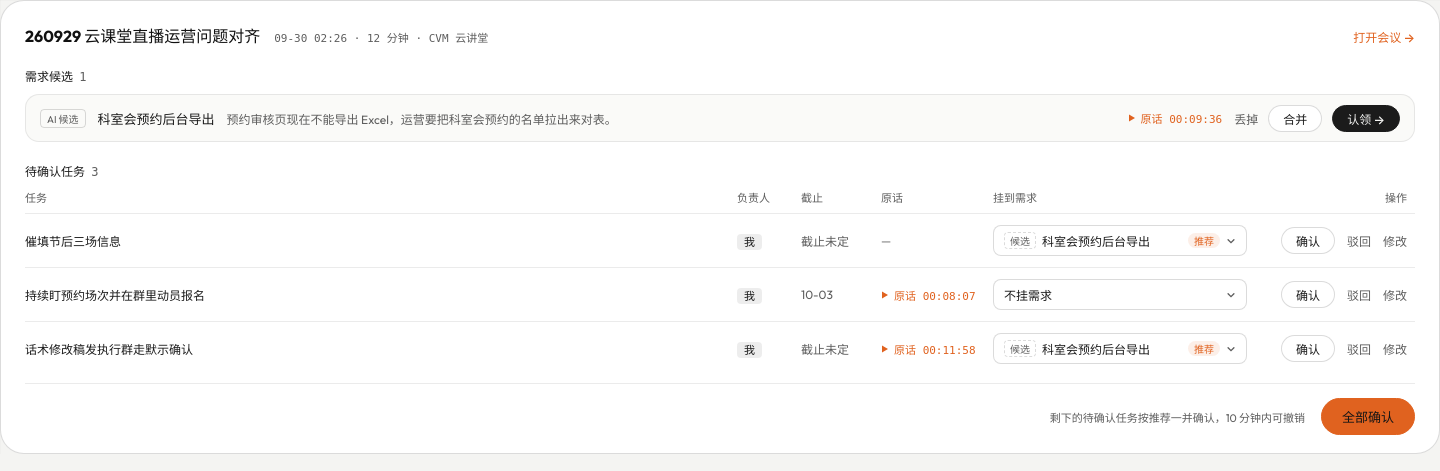
Test: ReviewCardsPanel › 不改选直接确认：按推荐的候选带 candidate_id，提示带撤销，撤销调 undoTaskReview
Click the button with aria-label "确认「".
click(1308, 348)  # box top-left (1281, 335), bottom-right (1335, 362)
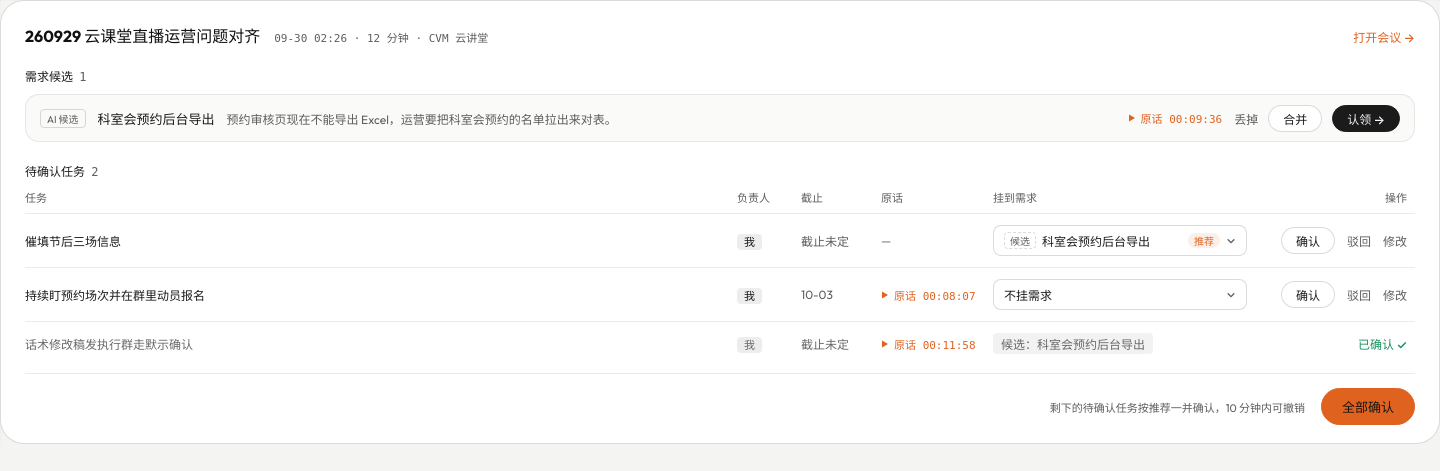
Now the text "已确认 ✓" is shown, box top-left (1358, 335), bottom-right (1407, 352)
Now the text "候选：科室会预约后台导出" is shown, box top-left (1001, 335), bottom-right (1145, 352)
Now the heading "待确认任务 2" is shown, box top-left (25, 164), bottom-right (98, 179)
